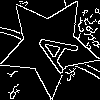A: (24, 21, 79, 75)
